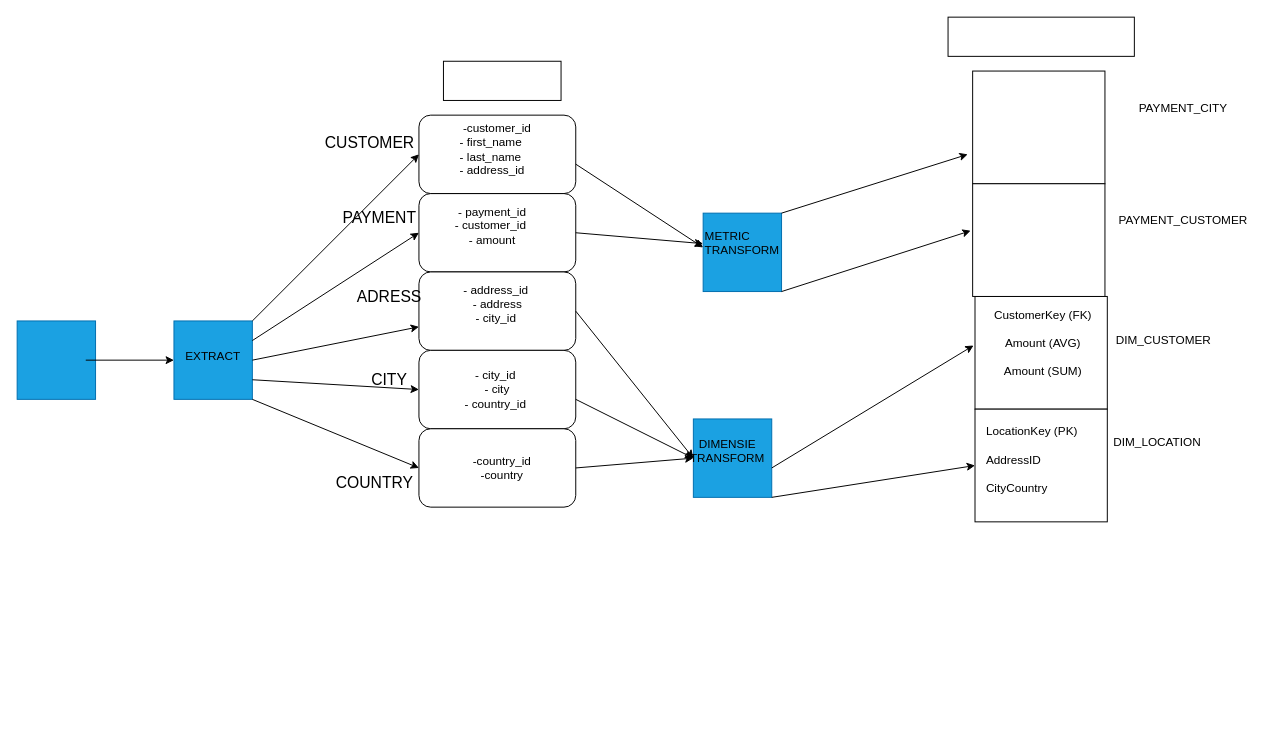
Image size: 1264x743. Some labels were removed from this diagram. Here are the shapes that lost their labels. From the top down, the centre of each, then its label:
At (1040,36): "DATA WAREHOUSE".
At (501,80): "FYSIEK".
At (1038,127): "LocationKey (FK) Amount (AVG) AMOUNT (SUM)".
At (1038,239): "CustomerKey(PK) CustomerID FullName".
At (56,359): "PostgreSQL".
